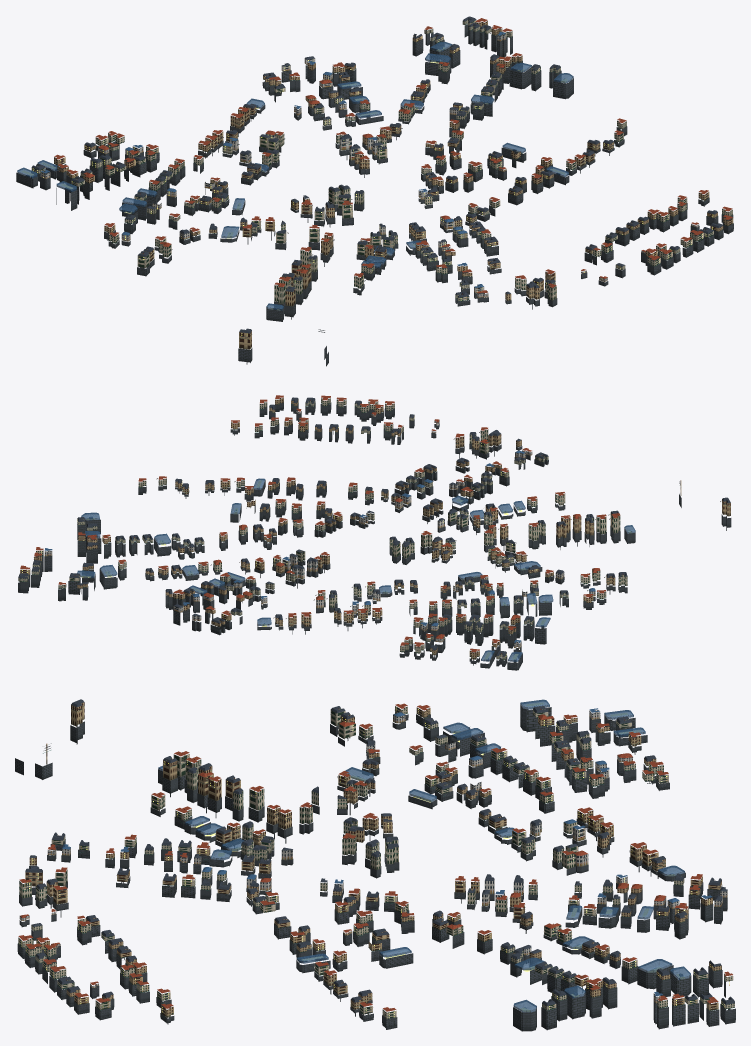
The model's file is osm_buildings_T_E00_N01_Q2.glb.
The picture shows the model from 3 angles, top to bottom: view 1: azimuth 30°, elevation 25°; view 2: azimuth 150°, elevation 25°; view 3: azimuth 270°, elevation 25°; orthographic projection. The views are drawn at different scales.
Parts seen in each view (by area): view 1: OSM_PBR_T_E00_N01_Q2_foundation, OSM_PBR_T_E00_N01_Q2_wall_cream_stucco, OSM_PBR_T_E00_N01_Q2_wall_french_ochre, OSM_PBR_T_E00_N01_Q2_roof_terracotta, OSM_PBR_T_E00_N01_Q2_roof_mansard_slate, OSM_PBR_T_E00_N01_Q2_greenhouse_blend, OSM_PBR_T_E00_N01_Q2_roof_mansard_deck, OSM_PBR_T_E00_N01_Q2_wall_warm_white, OSM_PBR_T_E00_N01_Q2_wall_pastel_sand, OSM_PBR_T_E00_N01_Q2_balcony_railing, OSM_PBR_T_E00_N01_Q2_roof_mint_metal, OSM_PBR_T_E00_N01_Q2_trim_cornice; view 2: OSM_PBR_T_E00_N01_Q2_foundation, OSM_PBR_T_E00_N01_Q2_wall_cream_stucco, OSM_PBR_T_E00_N01_Q2_wall_french_ochre, OSM_PBR_T_E00_N01_Q2_roof_terracotta, OSM_PBR_T_E00_N01_Q2_roof_mansard_slate, OSM_PBR_T_E00_N01_Q2_greenhouse_blend, OSM_PBR_T_E00_N01_Q2_roof_mansard_deck, OSM_PBR_T_E00_N01_Q2_wall_warm_white, OSM_PBR_T_E00_N01_Q2_wall_pastel_sand, OSM_PBR_T_E00_N01_Q2_roof_mint_metal, OSM_PBR_T_E00_N01_Q2_trim_cornice; view 3: OSM_PBR_T_E00_N01_Q2_foundation, OSM_PBR_T_E00_N01_Q2_wall_cream_stucco, OSM_PBR_T_E00_N01_Q2_wall_french_ochre, OSM_PBR_T_E00_N01_Q2_roof_terracotta, OSM_PBR_T_E00_N01_Q2_roof_mansard_slate, OSM_PBR_T_E00_N01_Q2_greenhouse_blend, OSM_PBR_T_E00_N01_Q2_roof_mansard_deck, OSM_PBR_T_E00_N01_Q2_roof_mint_metal, OSM_PBR_T_E00_N01_Q2_wall_warm_white, OSM_PBR_T_E00_N01_Q2_balcony_railing, OSM_PBR_T_E00_N01_Q2_wall_pastel_sand, OSM_PBR_T_E00_N01_Q2_trim_cornice (+2 smaller).
Part boxes in pixels (x1=…): OSM_PBR_T_E00_N01_Q2_foundation: x1=16, y1=24, x2=733, y2=366; OSM_PBR_T_E00_N01_Q2_wall_cream_stucco: x1=31, y1=20, x2=732, y2=304; OSM_PBR_T_E00_N01_Q2_wall_french_ochre: x1=54, y1=21, x2=733, y2=349; OSM_PBR_T_E00_N01_Q2_roof_terracotta: x1=38, y1=18, x2=732, y2=294; OSM_PBR_T_E00_N01_Q2_roof_mansard_slate: x1=32, y1=18, x2=722, y2=333; OSM_PBR_T_E00_N01_Q2_greenhouse_blend: x1=17, y1=42, x2=573, y2=310; OSM_PBR_T_E00_N01_Q2_roof_mansard_deck: x1=33, y1=16, x2=721, y2=331; OSM_PBR_T_E00_N01_Q2_wall_warm_white: x1=40, y1=34, x2=645, y2=293; OSM_PBR_T_E00_N01_Q2_wall_pastel_sand: x1=98, y1=58, x2=699, y2=297; OSM_PBR_T_E00_N01_Q2_balcony_railing: x1=32, y1=22, x2=716, y2=337; OSM_PBR_T_E00_N01_Q2_roof_mint_metal: x1=38, y1=24, x2=729, y2=339; OSM_PBR_T_E00_N01_Q2_trim_cornice: x1=41, y1=26, x2=731, y2=337; OSM_PBR_T_E00_N01_Q2_foundation: x1=18, y1=402, x2=731, y2=670; OSM_PBR_T_E00_N01_Q2_wall_cream_stucco: x1=18, y1=398, x2=627, y2=659; OSM_PBR_T_E00_N01_Q2_wall_french_ochre: x1=20, y1=397, x2=730, y2=659; OSM_PBR_T_E00_N01_Q2_roof_terracotta: x1=20, y1=395, x2=623, y2=653; OSM_PBR_T_E00_N01_Q2_roof_mansard_slate: x1=18, y1=398, x2=730, y2=656; OSM_PBR_T_E00_N01_Q2_greenhouse_blend: x1=77, y1=478, x2=635, y2=661; OSM_PBR_T_E00_N01_Q2_roof_mansard_deck: x1=19, y1=397, x2=729, y2=661; OSM_PBR_T_E00_N01_Q2_wall_warm_white: x1=44, y1=413, x2=595, y2=648; OSM_PBR_T_E00_N01_Q2_wall_pastel_sand: x1=173, y1=411, x2=532, y2=642; OSM_PBR_T_E00_N01_Q2_roof_mint_metal: x1=18, y1=403, x2=729, y2=659; OSM_PBR_T_E00_N01_Q2_trim_cornice: x1=18, y1=398, x2=729, y2=658; OSM_PBR_T_E00_N01_Q2_foundation: x1=15, y1=705, x2=735, y2=1031; OSM_PBR_T_E00_N01_Q2_wall_cream_stucco: x1=18, y1=706, x2=734, y2=1018; OSM_PBR_T_E00_N01_Q2_wall_french_ochre: x1=25, y1=702, x2=721, y2=1017; OSM_PBR_T_E00_N01_Q2_roof_terracotta: x1=18, y1=703, x2=732, y2=1011; OSM_PBR_T_E00_N01_Q2_roof_mansard_slate: x1=25, y1=700, x2=734, y2=1006; OSM_PBR_T_E00_N01_Q2_greenhouse_blend: x1=158, y1=699, x2=690, y2=1012; OSM_PBR_T_E00_N01_Q2_roof_mansard_deck: x1=26, y1=699, x2=733, y2=1011; OSM_PBR_T_E00_N01_Q2_roof_mint_metal: x1=18, y1=706, x2=734, y2=1017; OSM_PBR_T_E00_N01_Q2_wall_warm_white: x1=51, y1=710, x2=727, y2=1003; OSM_PBR_T_E00_N01_Q2_balcony_railing: x1=18, y1=710, x2=723, y2=1020; OSM_PBR_T_E00_N01_Q2_wall_pastel_sand: x1=19, y1=755, x2=722, y2=987; OSM_PBR_T_E00_N01_Q2_trim_cornice: x1=20, y1=704, x2=734, y2=1016.
Bounding box in the file's own units: 1005 × 90.36 × 1001.
Materials: 18 (16 with a texture image).
